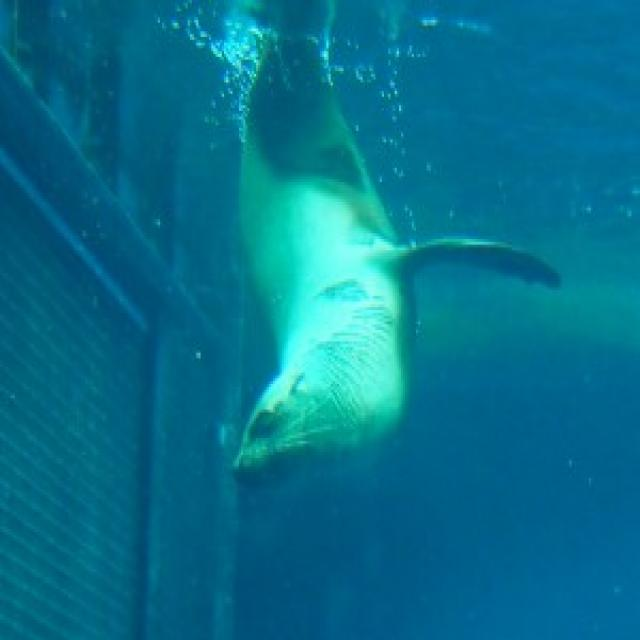Seal: (207, 0, 578, 509)
